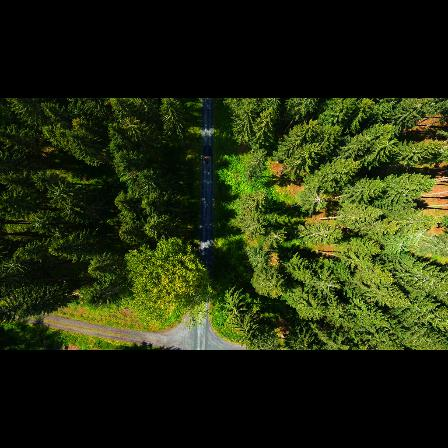Sick: (310, 191, 328, 210)
